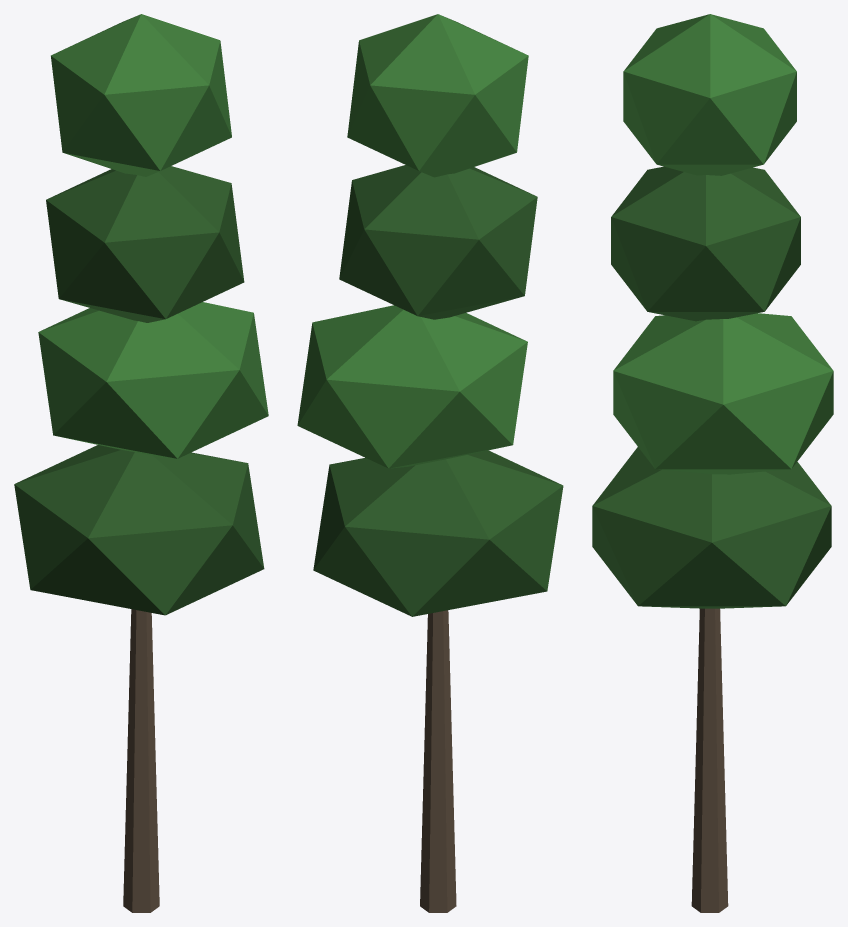
The model's file is columnar-v0-summer.glb.
3 views of the same model, side by side, from view 1: azimuth 30°, elevation 25°; view 2: azimuth 150°, elevation 25°; view 3: azimuth 270°, elevation 25° (orthographic).
Parts seen in each view (by area): view 1: columnar_v0; view 2: columnar_v0; view 3: columnar_v0.
Part boxes in pixels (left/top/right/bottom): columnar_v0: left=14, top=14, right=268, bottom=912; columnar_v0: left=297, top=14, right=563, bottom=912; columnar_v0: left=592, top=14, right=833, bottom=912.
Size of what is drawn, in the model's own units: 3.48 by 12.93 by 3.17.
